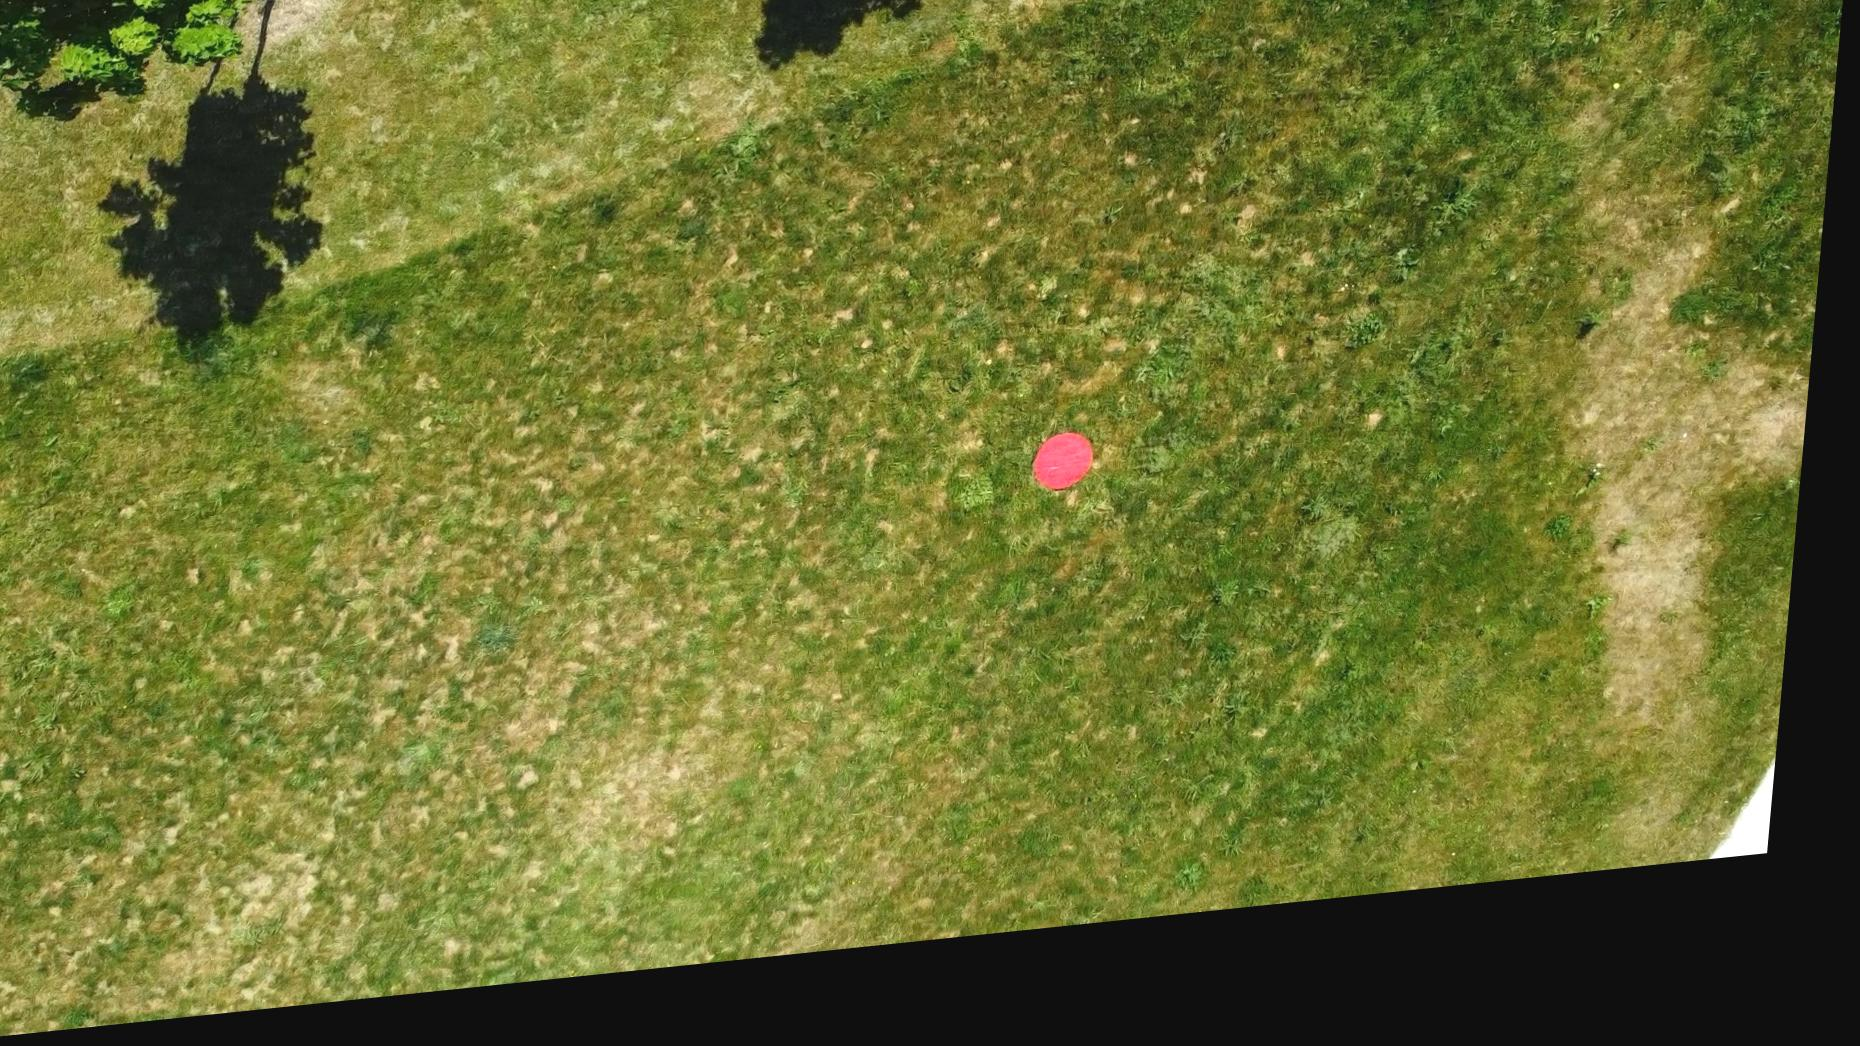Red: (1037, 448, 1109, 520)
